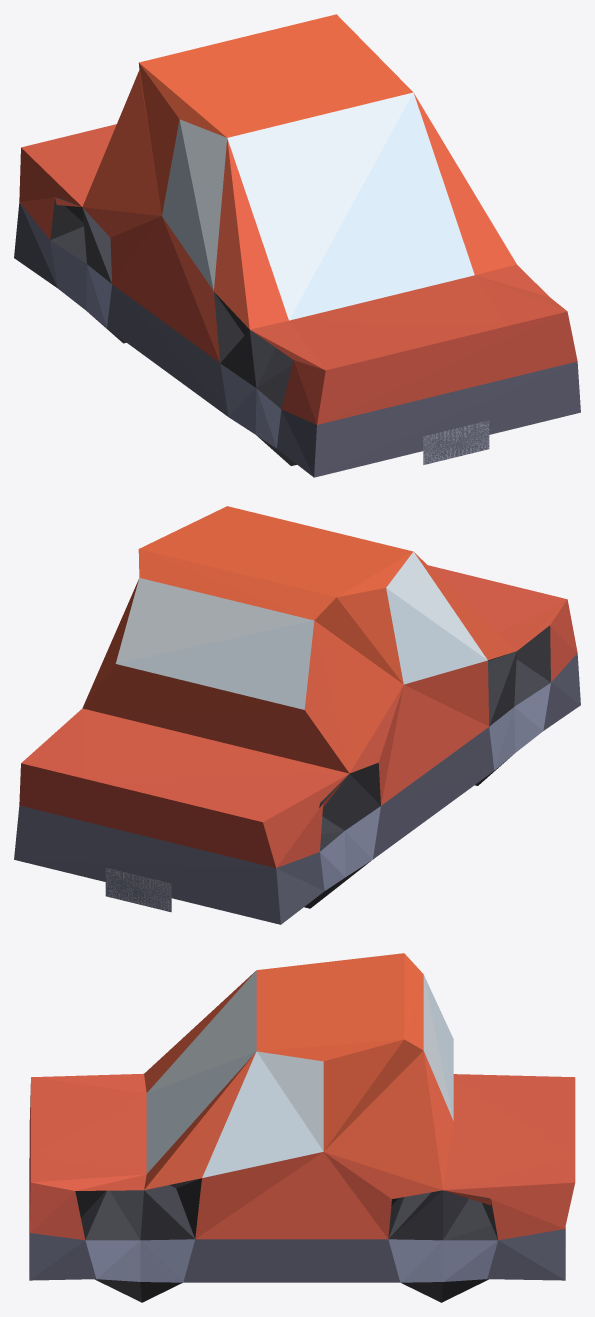
Rendered from sedan_vita.obj.
3 renders of one model, top to bottom at view 1: azimuth 30°, elevation 25°; view 2: azimuth 150°, elevation 25°; view 3: azimuth 270°, elevation 25°, orthographic. The views are drawn at different scales.
Size of the model in its own units: 1.25 by 1.29 by 2.5.
Materials: 1 (1 with a texture image).
